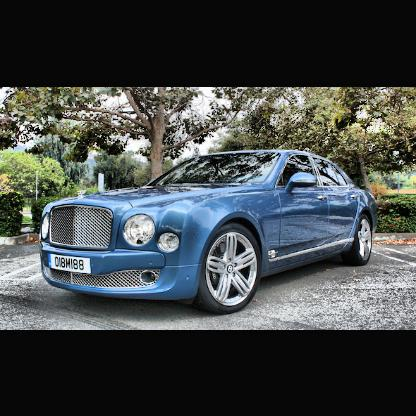Bentley Mulsanne Sedan 2011: (40, 149, 381, 316)
